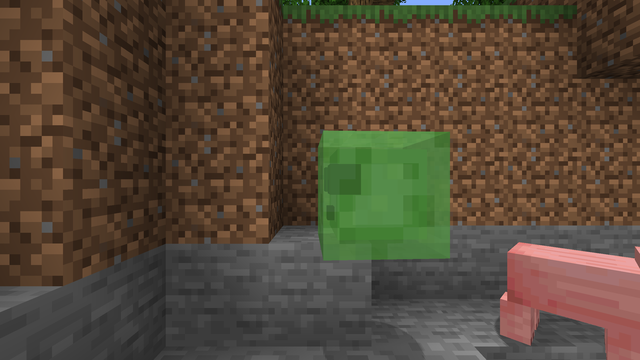cochons: (498, 242, 632, 354)
slimes: (317, 125, 452, 260)
